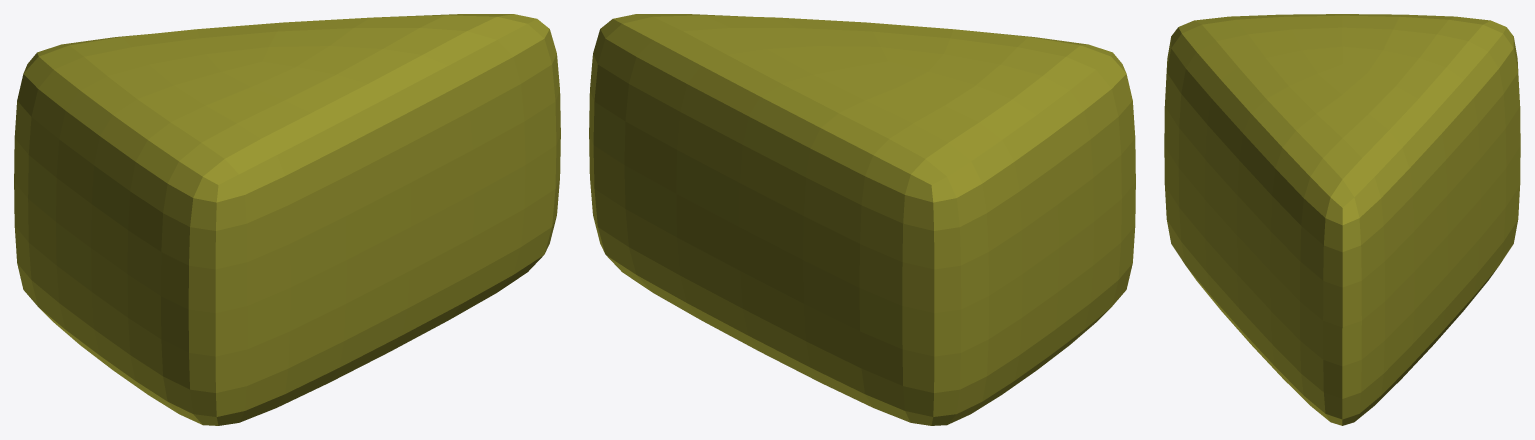
File: cheese2.fbx
The picture shows the model from 3 angles, left to right: view 1: azimuth 30°, elevation 25°; view 2: azimuth 150°, elevation 25°; view 3: azimuth 270°, elevation 25°; orthographic projection. The views are drawn at different scales.
Visible parts, largest first — view 1: Cube; view 2: Cube; view 3: Cube.
Boxes of the visible parts, x1,y1,x2,y2 form: Cube: (14,14,560,425); Cube: (589,14,1135,425); Cube: (1164,14,1520,425).
Bounding box in the file's own units: 332 × 196 × 241.
